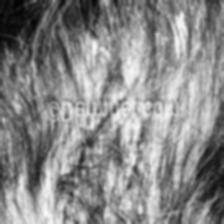Non-Cancerous Skin Condition: (96, 140, 184, 224), (84, 27, 139, 87), (166, 0, 198, 62)
